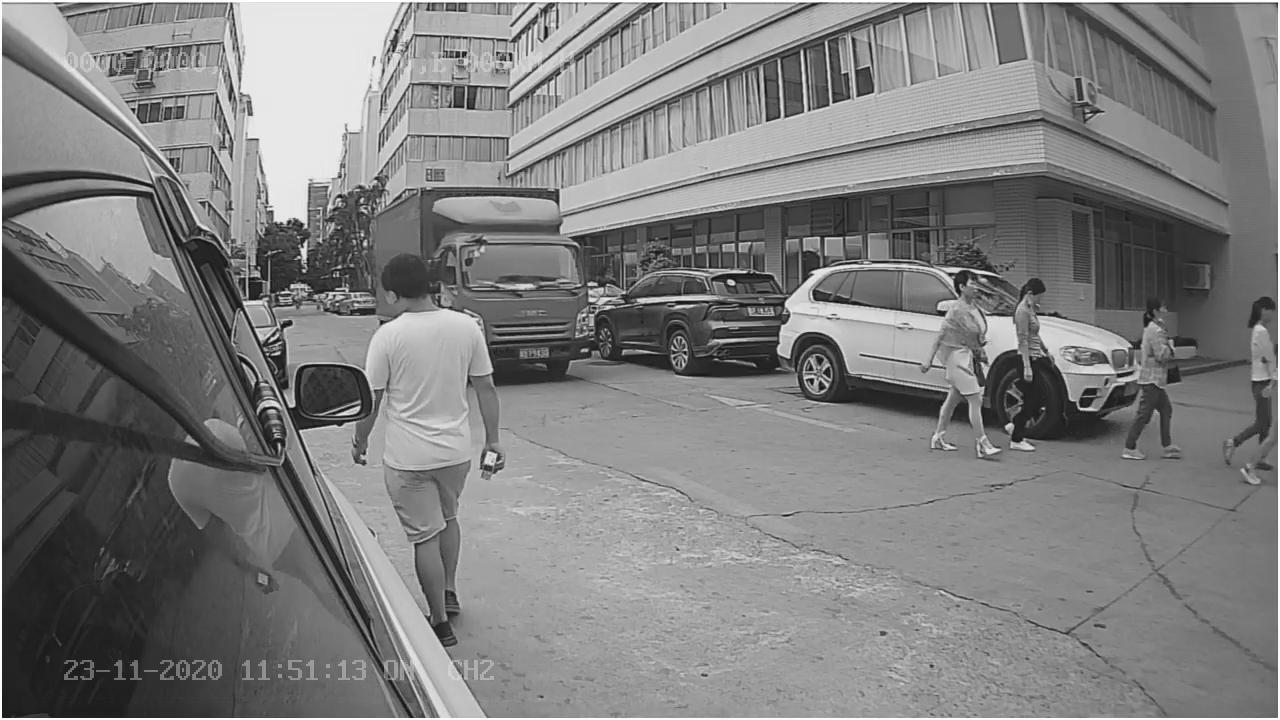person: (920, 260, 1006, 463), (353, 249, 493, 366), (1121, 287, 1192, 467)
